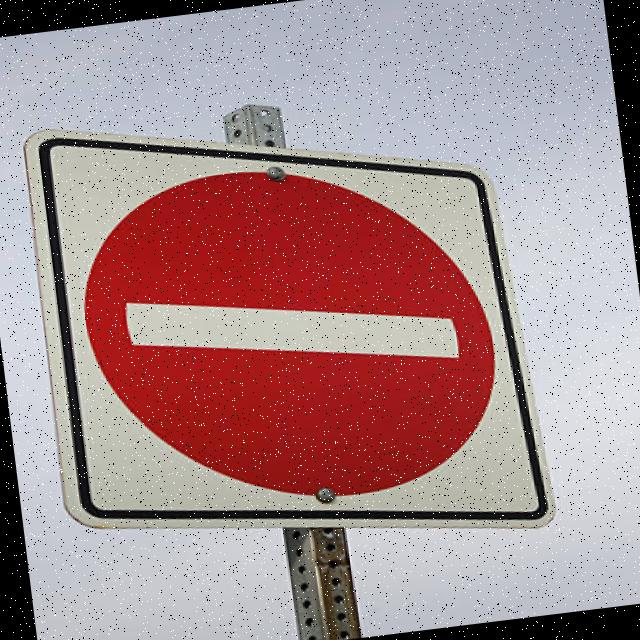do_not_enter: (51, 134, 524, 534)
